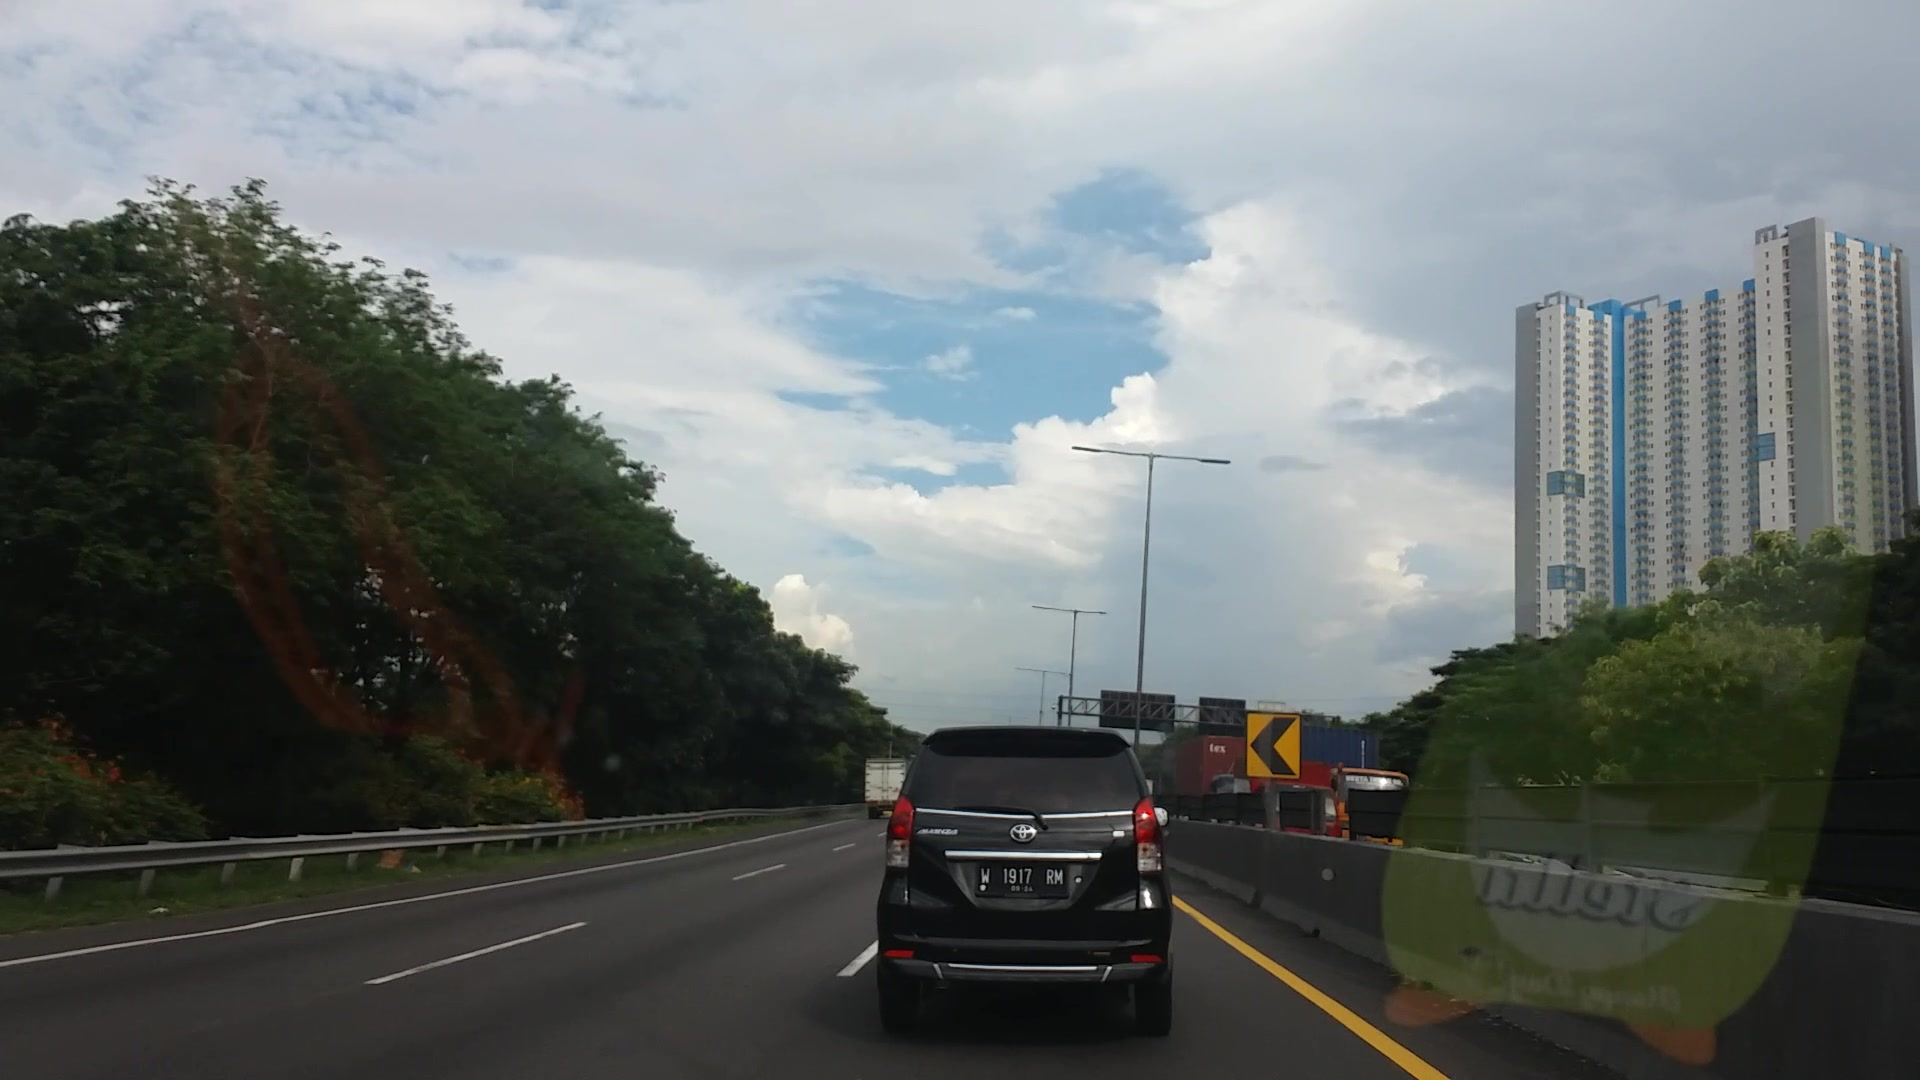plate_positive: (977, 864, 1065, 894)
